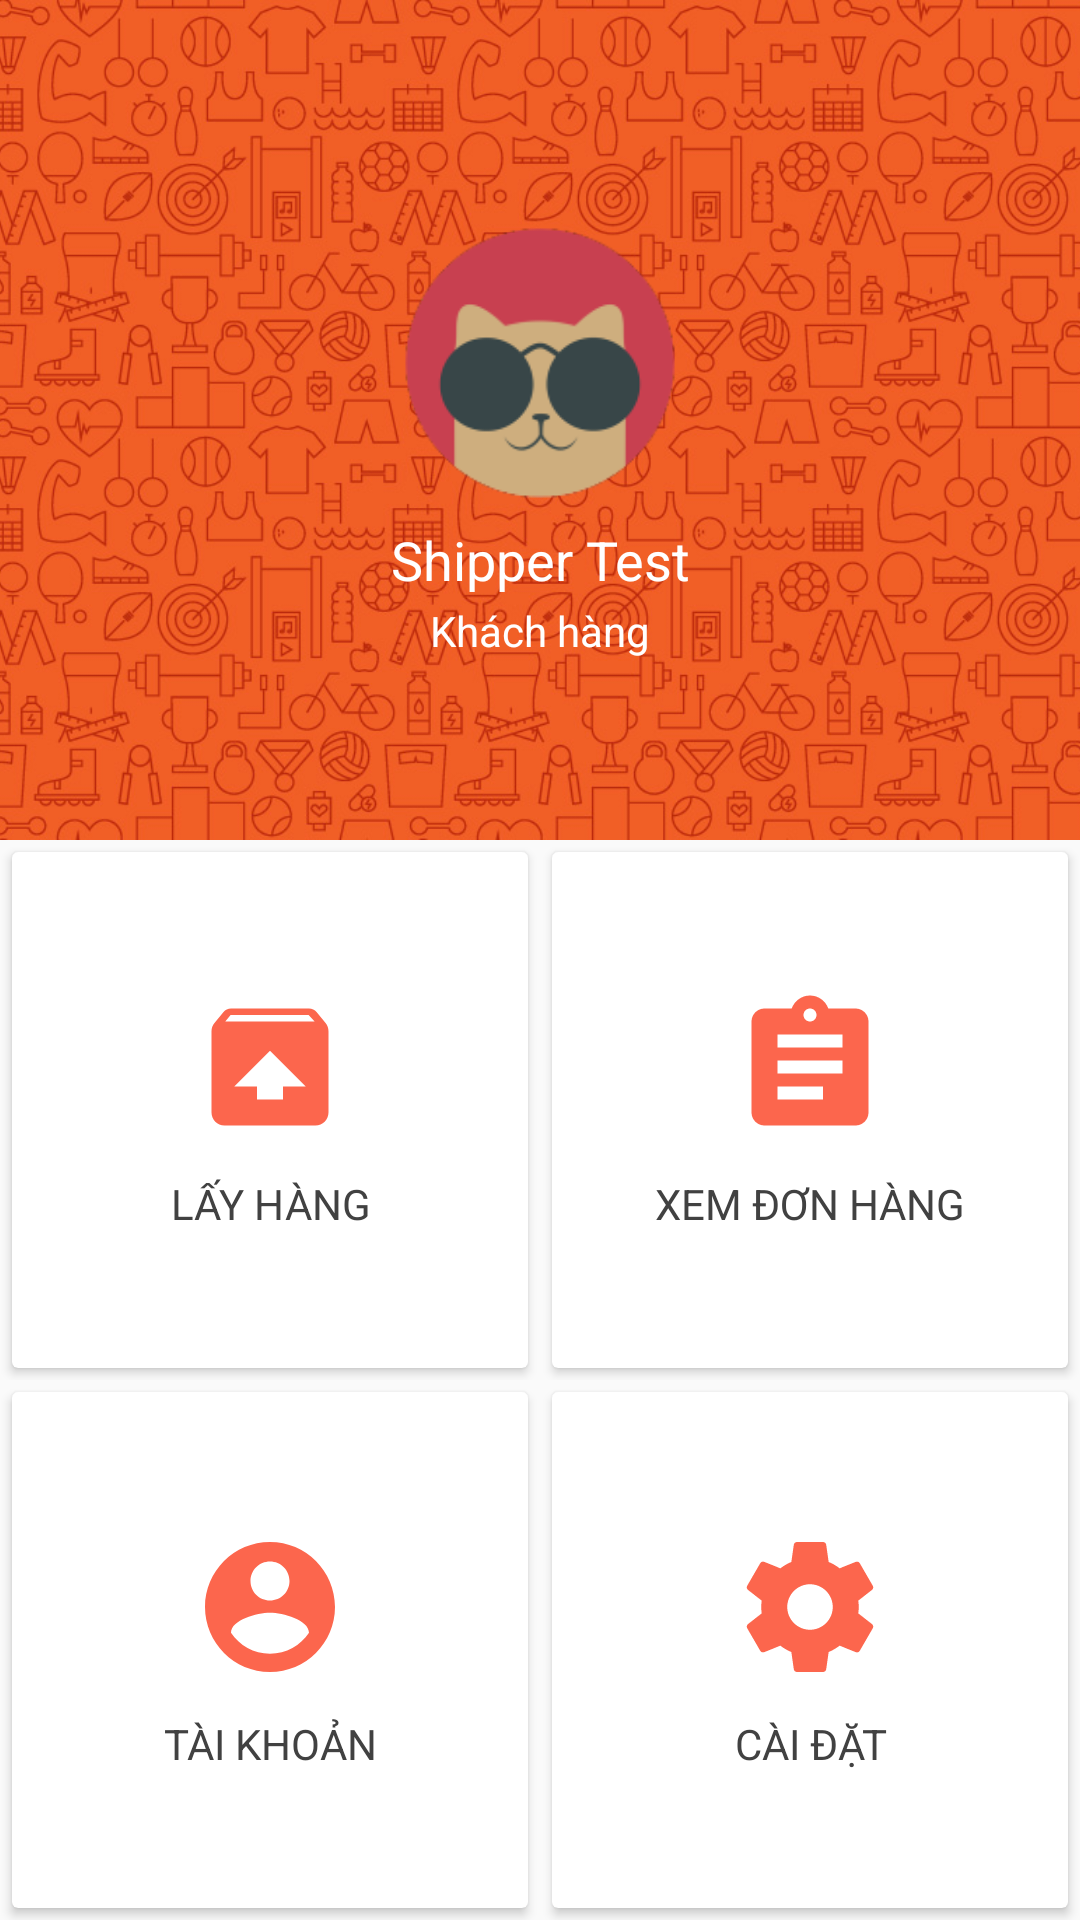

Point at icon controls on the screen. Image size 1080 x 1920, points as (x=x, y=y).
account circle: (x=270, y=1607)
assignment: (x=810, y=1060)
settings: (x=810, y=1607)
unarchive: (x=270, y=1067)
